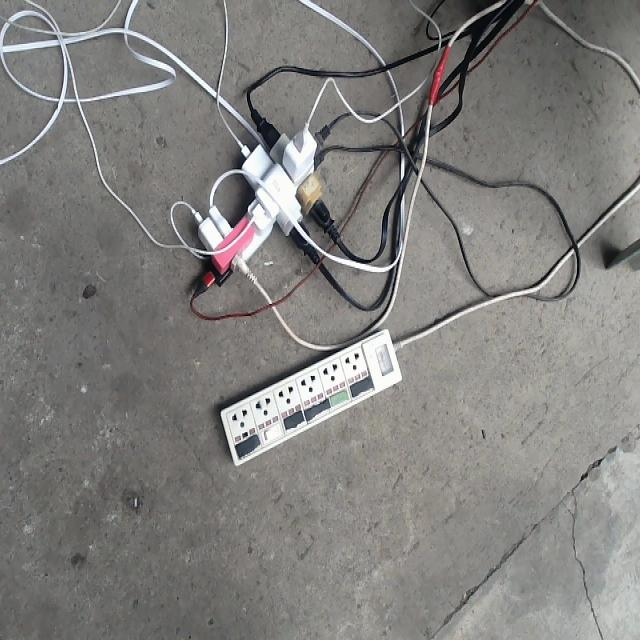-: (192, 105, 342, 296)
